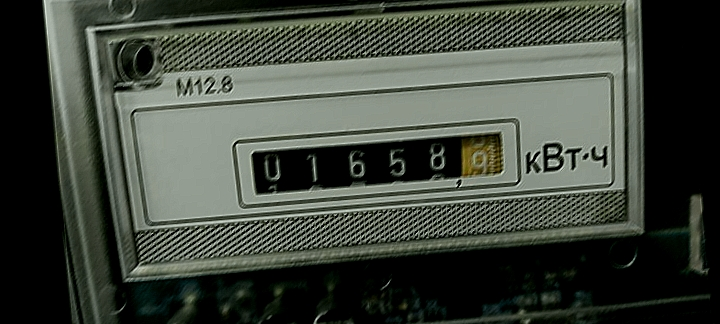0: (259, 149, 281, 181)
1: (302, 149, 322, 182)
5: (384, 143, 407, 176)
6: (344, 144, 366, 178)
8: (424, 137, 447, 170)
9: (465, 147, 489, 177)
screen: (221, 106, 527, 215)
